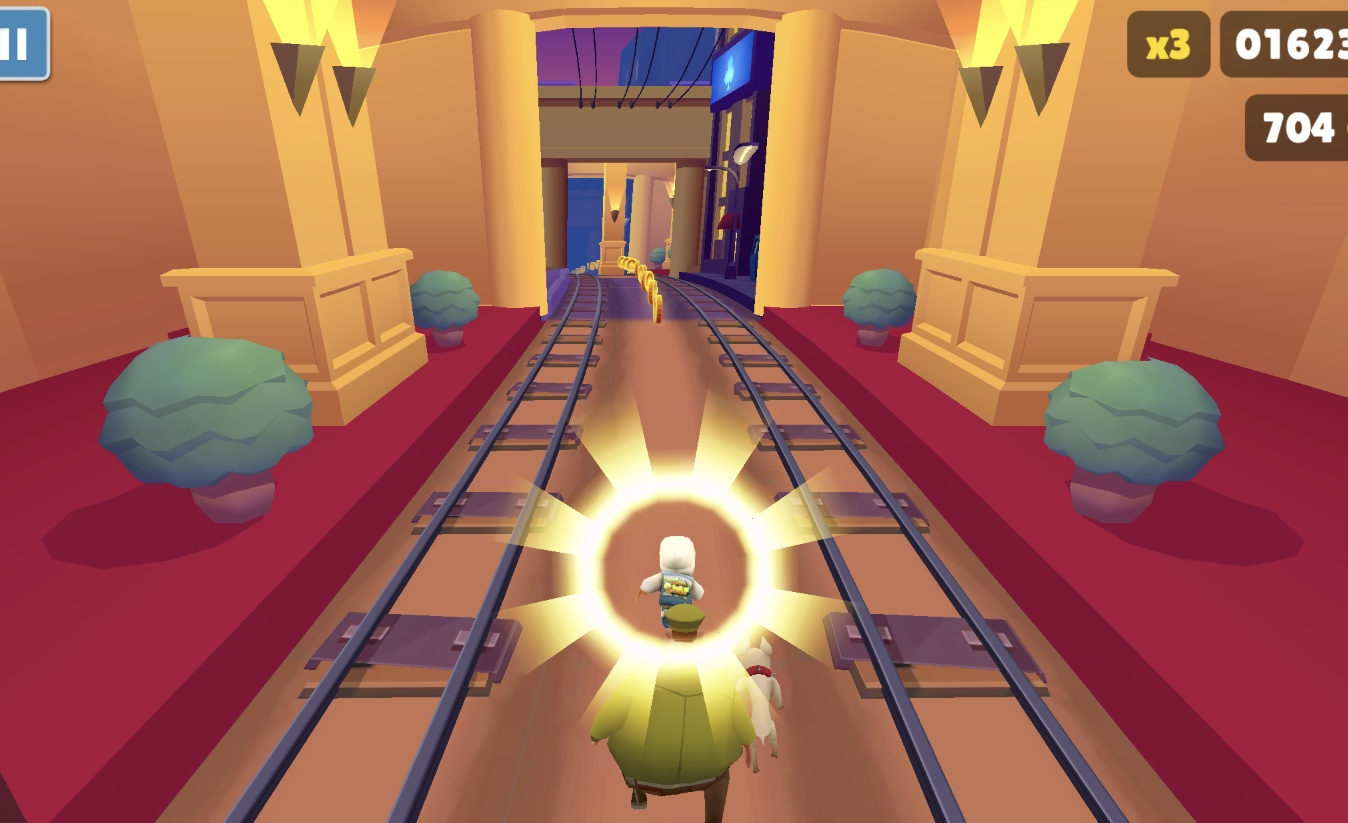pillar: (617, 107, 664, 300)
